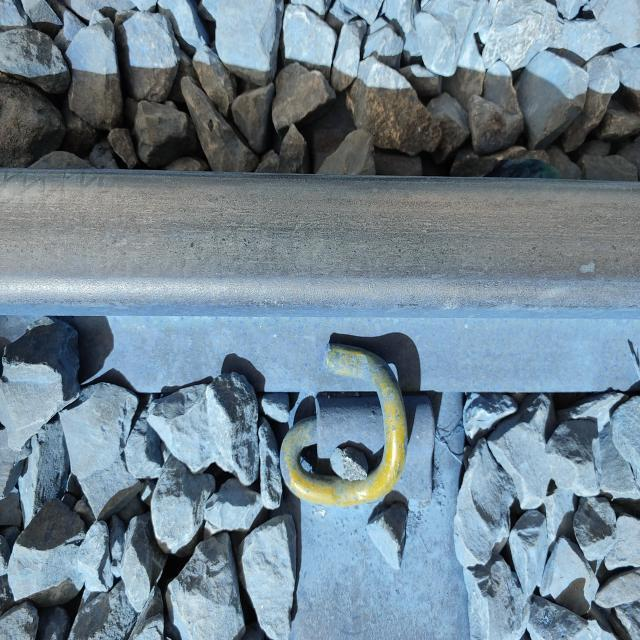Good Fasteners: (280, 343, 469, 638)
